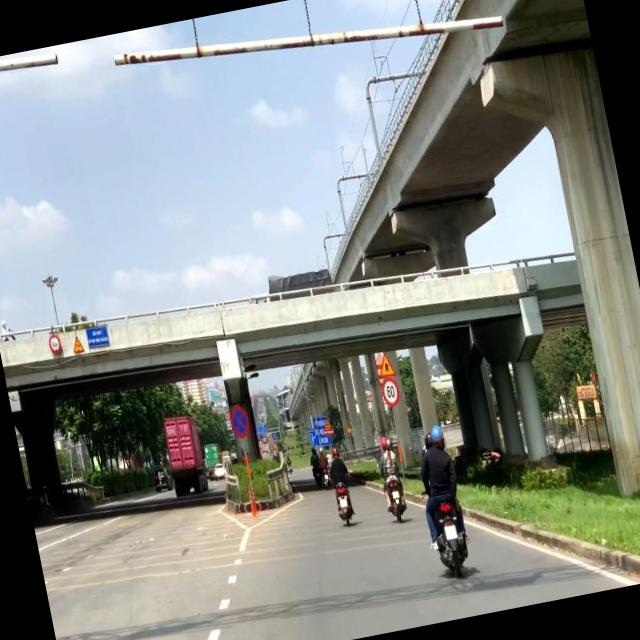P-127: (381, 378, 401, 408)
P-130: (228, 406, 254, 438)
